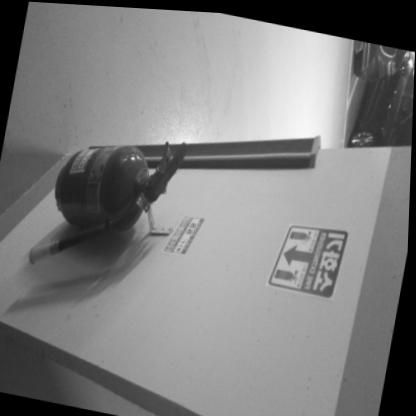FE: (50, 122, 189, 240)
